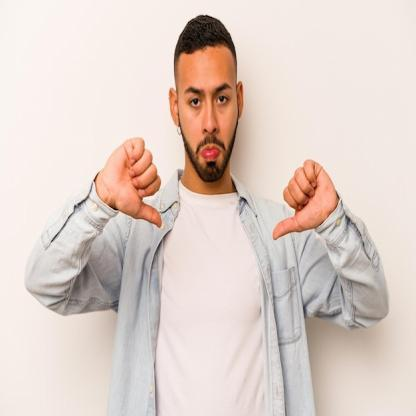thumb_down: (271, 150, 339, 249), (104, 130, 166, 230)
